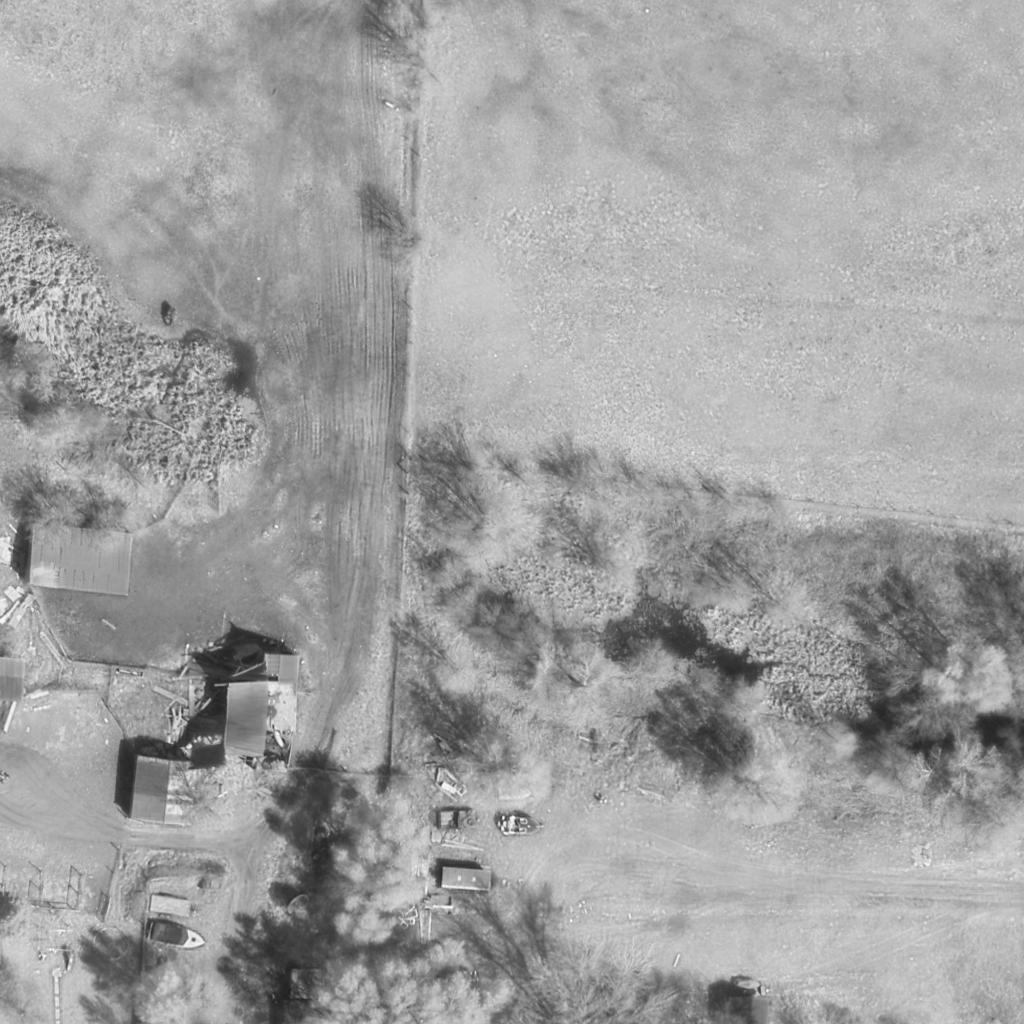vehicle: (145, 918, 209, 956), (440, 867, 492, 891), (499, 818, 549, 838)
